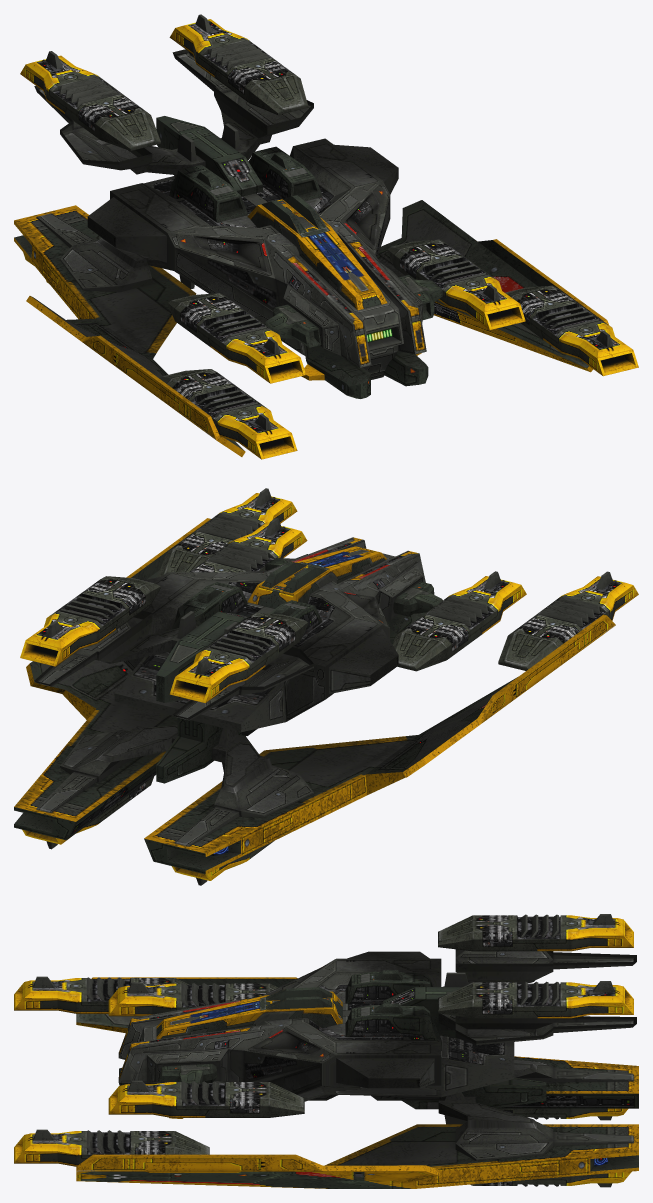
3 renders of one model, top to bottom at view 1: azimuth 30°, elevation 25°; view 2: azimuth 150°, elevation 25°; view 3: azimuth 270°, elevation 25°, orthographic. The views are drawn at different scales.
Visible parts, largest first — view 1: SciFi_Fighter-MK6; view 2: SciFi_Fighter-MK6; view 3: SciFi_Fighter-MK6.
Part boxes in pixels (left/top/right/bottom): SciFi_Fighter-MK6: left=14, top=14, right=638, bottom=459; SciFi_Fighter-MK6: left=14, top=488, right=638, bottom=885; SciFi_Fighter-MK6: left=14, top=914, right=638, bottom=1188.
Size of the model in its own units: 388 by 207 by 572.
Materials: 1 (1 with a texture image).
